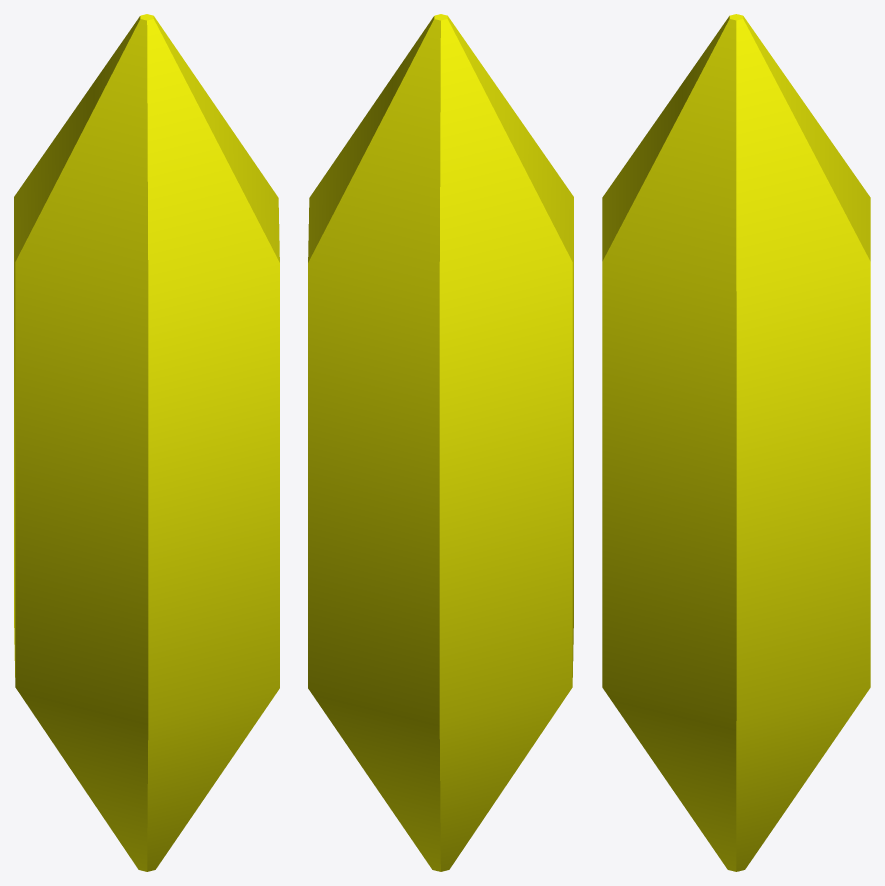
Rendered from lightcrystal.obj.
3 renders of one model, left to right at view 1: azimuth 30°, elevation 25°; view 2: azimuth 150°, elevation 25°; view 3: azimuth 270°, elevation 25°, orthographic.
Visible parts, largest first — view 1: g0; view 2: g0; view 3: g0.
Part boxes in pixels (box(x1,y1,x2,y2)): g0: box(14, 14, 279, 871); g0: box(308, 14, 573, 871); g0: box(602, 14, 870, 871).
Size of the model in its own units: 0.2592 by 0.8 by 0.2289.
